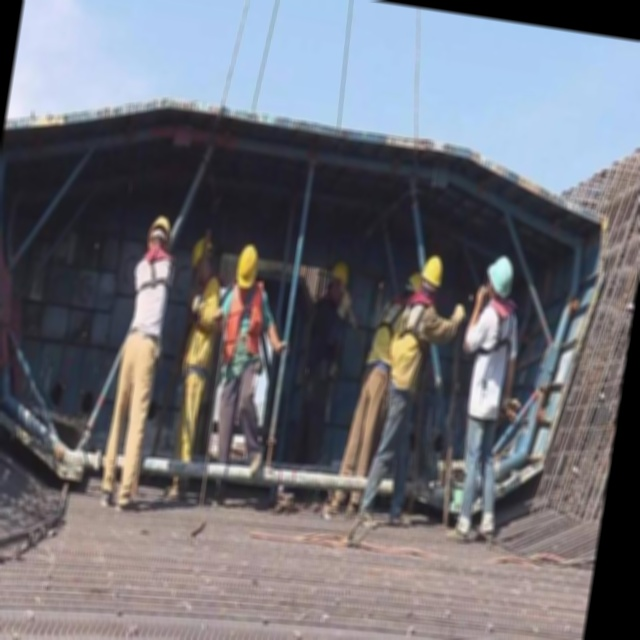Con_Casco: (234, 240, 262, 292), (419, 253, 446, 299)
